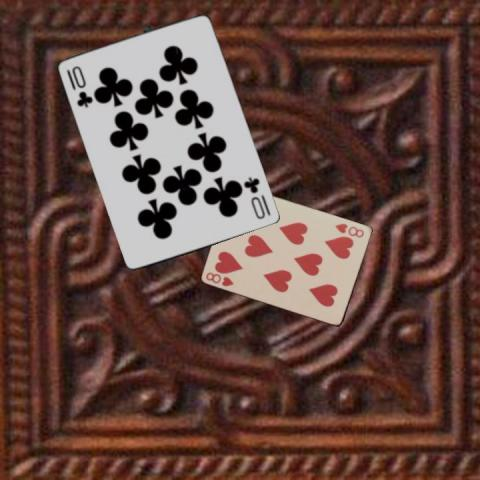10c: (241, 174, 273, 221), (64, 63, 95, 109)
8h: (332, 220, 365, 239), (204, 269, 236, 288)
